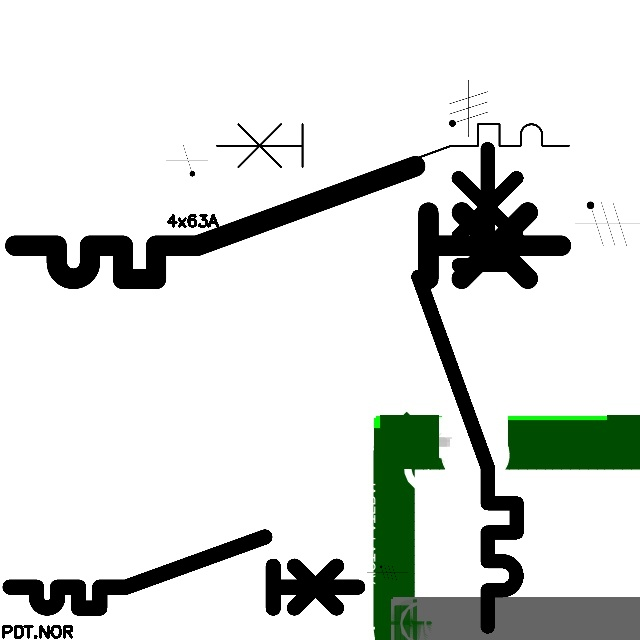interruptor_termomagnetico: (1, 152, 575, 293), (406, 136, 529, 638), (207, 115, 577, 205), (1, 528, 367, 617)
